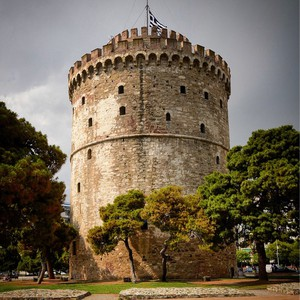White Tower: (53, 1, 244, 283)
